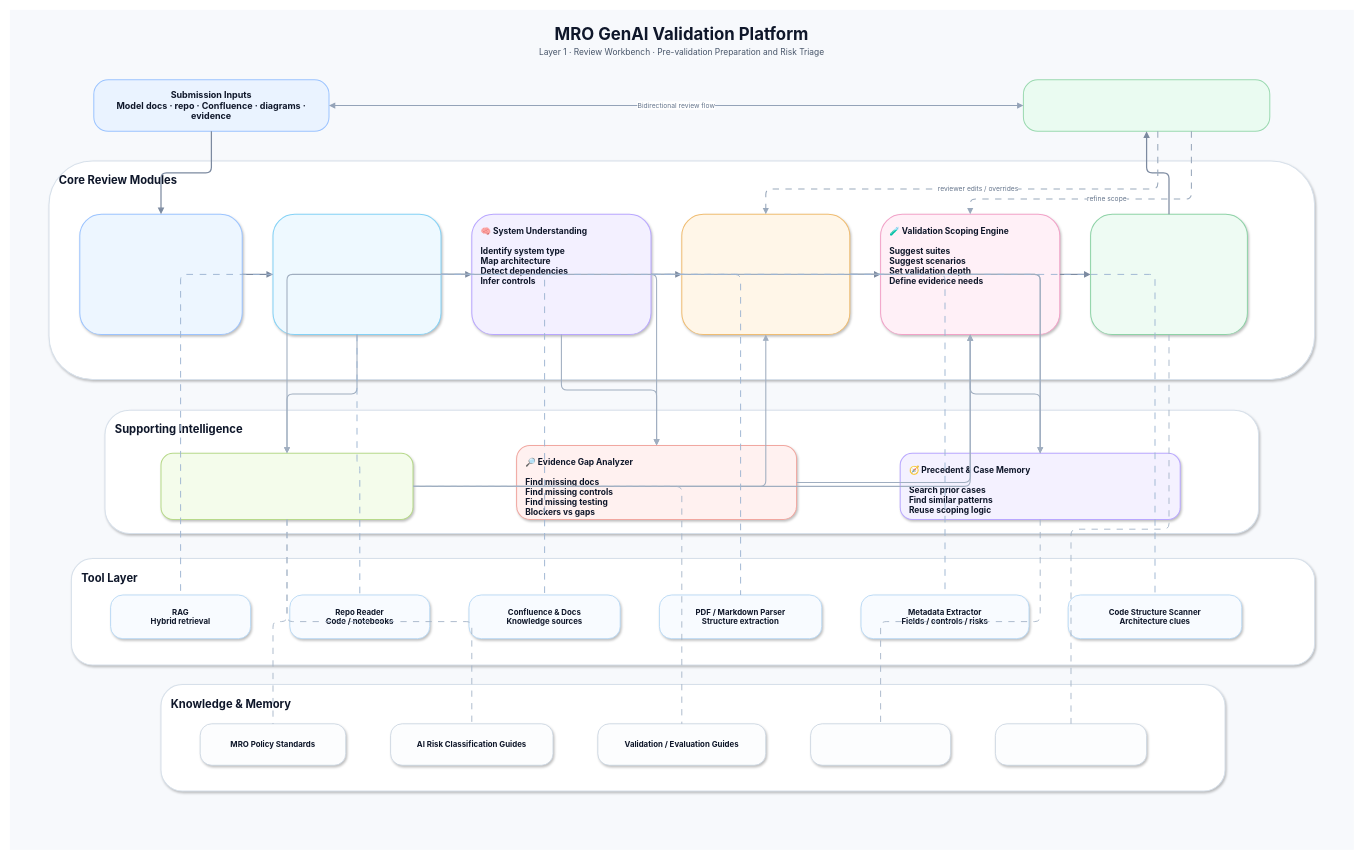
Some shapes in this 1363 by 859 pixel diagram are drawn without their labels. The shapes that lost their labels are listed below. From the top down, each one's centre as x and y in pixels, then its label:
point 1146,105: Structured Outputs Review report · Risk assessment · Validation config pack
point 161,275: 📥 Intake Manager Register case Attach sources Track version Assign reviewer
point 357,275: 📚 Document Intelligence Parse Extract Summarise Check completeness
point 766,275: ⚖️ Risk Triage Engine Classify Tag risks Assess materiality Route specialists
point 1169,275: 📝 Review Writer Draft review report Draft risk report Build config pack
point 287,487: 📖 Policy & Guidance Engine Retrieve policy Map standards Apply guidance
point 881,745: Prior Review Cases
point 1071,745: Case Metadata Store
